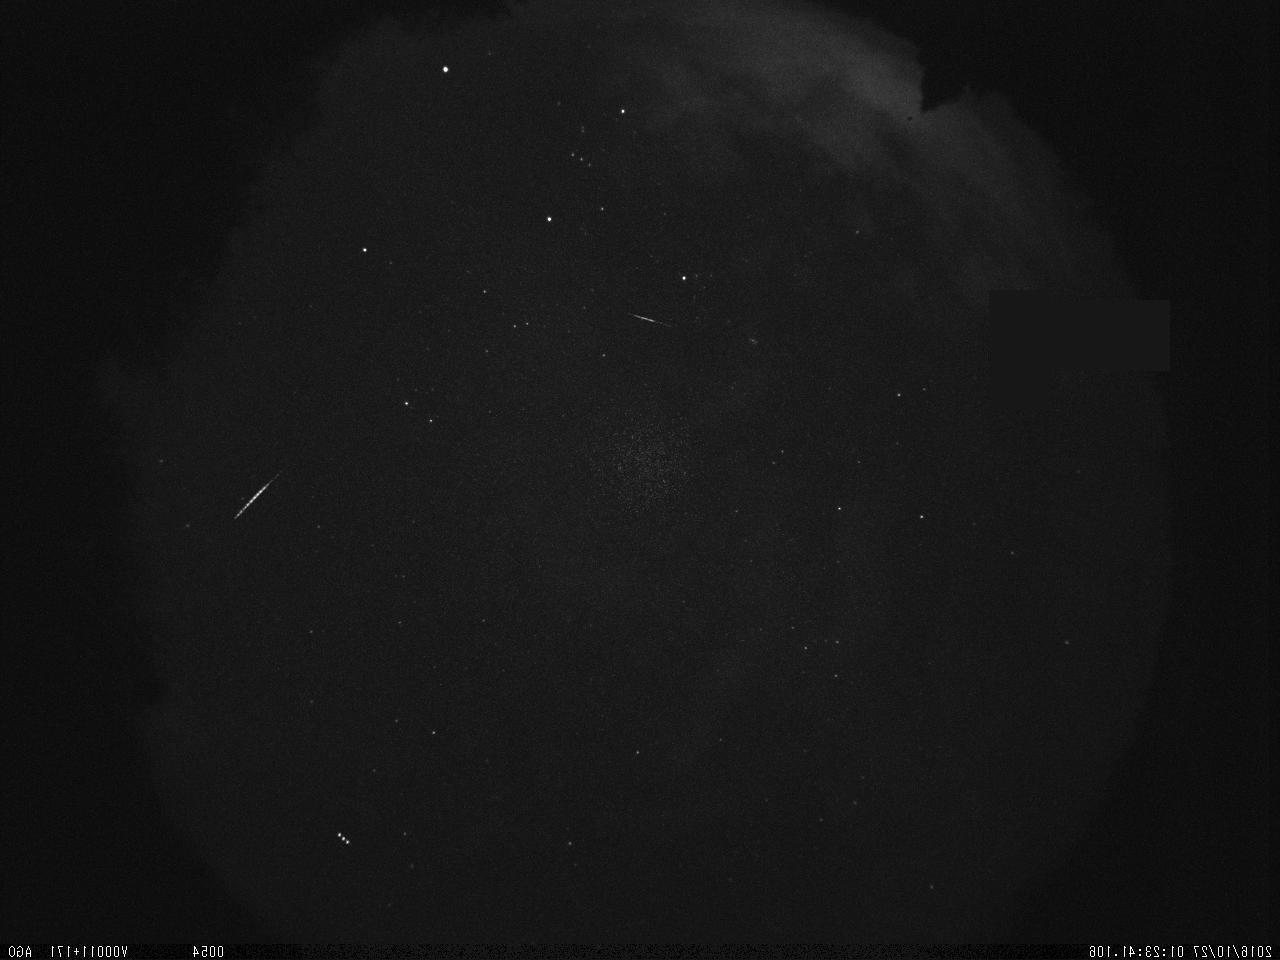meteor: (225, 460, 288, 530), (617, 309, 673, 333)
satelite: (333, 825, 356, 853)
